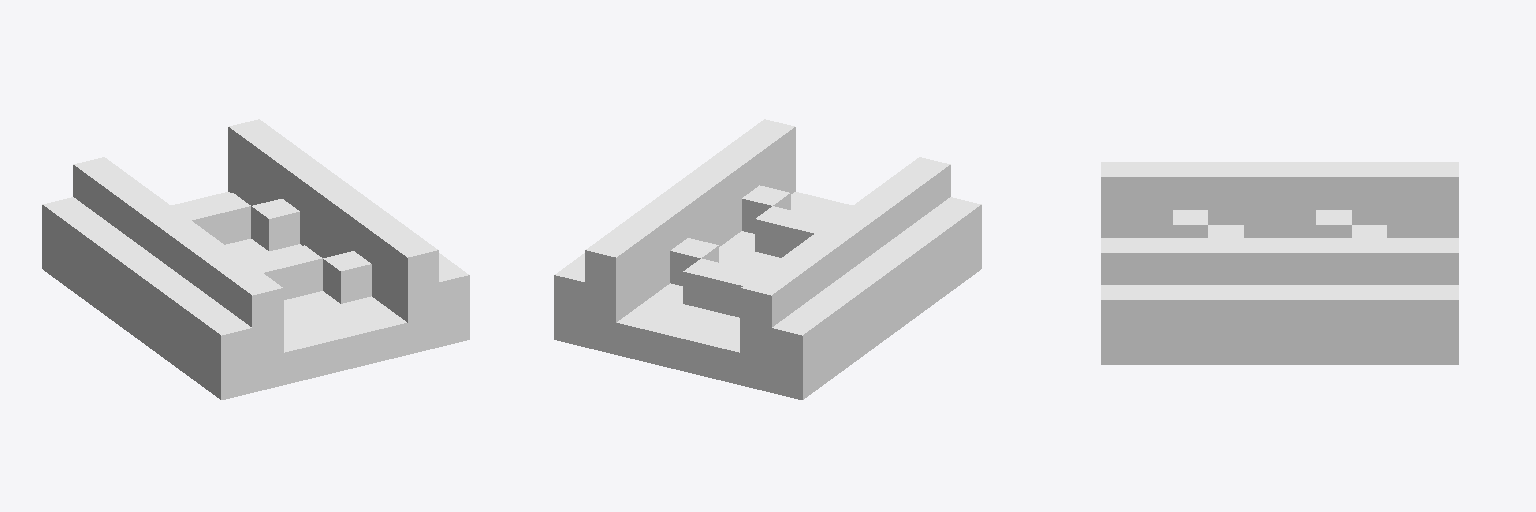
File: ConveyorTest.obj
The picture shows the model from 3 angles: view 1: azimuth 30°, elevation 25°; view 2: azimuth 150°, elevation 25°; view 3: azimuth 270°, elevation 25°; orthographic projection.
Visible parts, largest first — view 1: object 1; view 2: object 1; view 3: object 1.
Boxes of the visible parts, x1=… form: object 1: x1=42, y1=119, x2=469, y2=399; object 1: x1=554, y1=119, x2=981, y2=399; object 1: x1=1101, y1=162, x2=1458, y2=364.
Size of the model in its own units: 0.8 by 0.3 by 1.